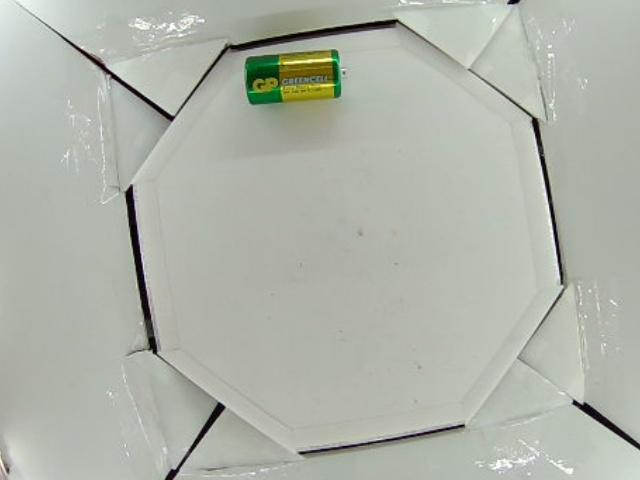Battery: (240, 48, 347, 106)
